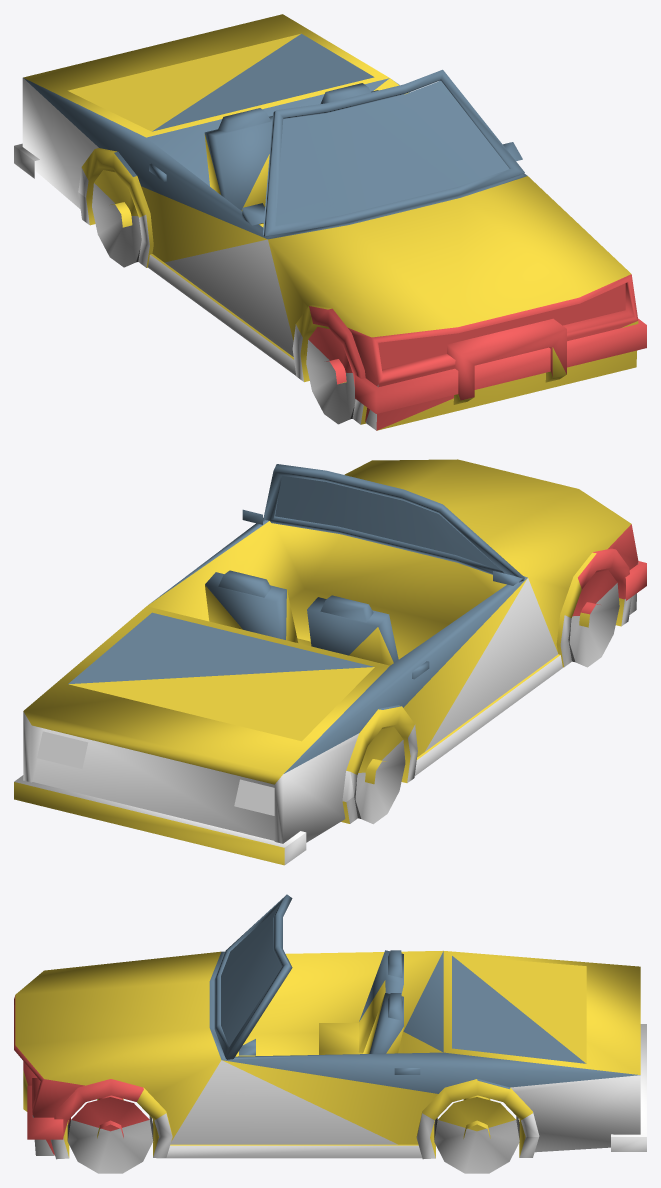
Rendered from bot_car2.glb.
3 renders of one model, top to bottom at view 1: azimuth 30°, elevation 25°; view 2: azimuth 150°, elevation 25°; view 3: azimuth 270°, elevation 25°, orthographic. The views are drawn at different scales.
Bounding box in the file's own units: 2.03 × 1.59 × 4.8.
